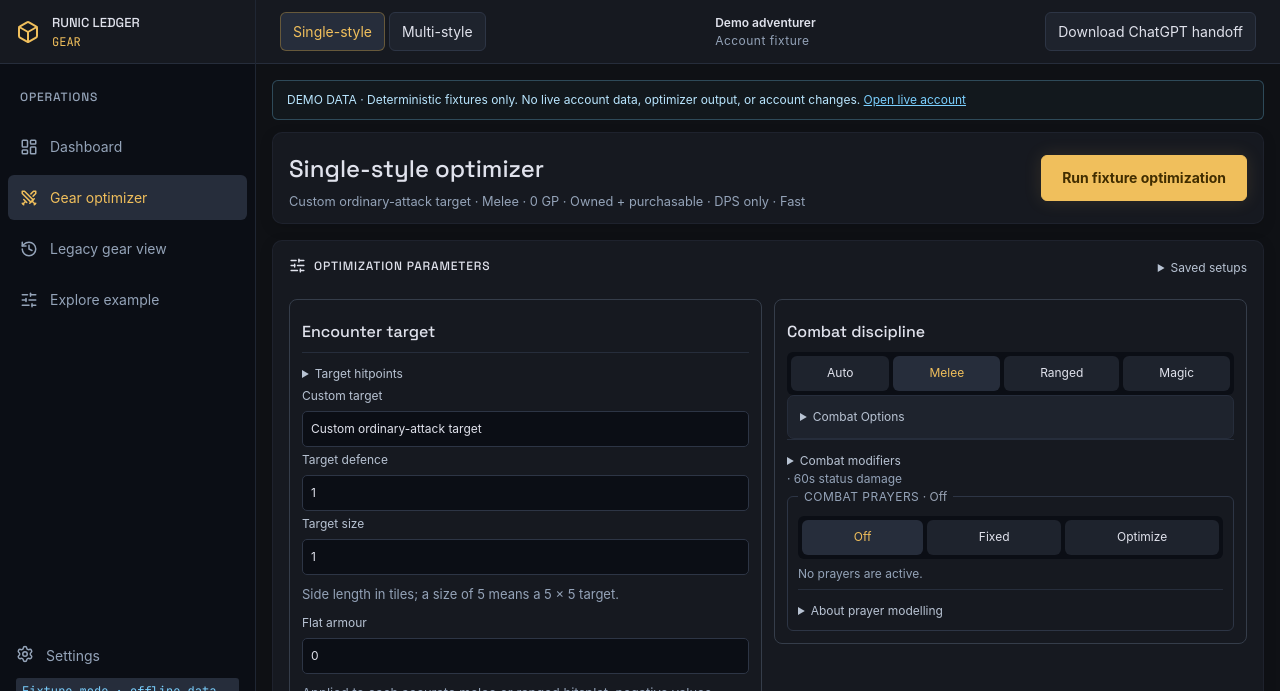
Scenario: discards delayed fixture evaluations after cancel and accepts the next preview
Click the button "Run fixture optimization" at {"x": 1144, "y": 178}, box [1041,155,1247,201]
(page scrolled)
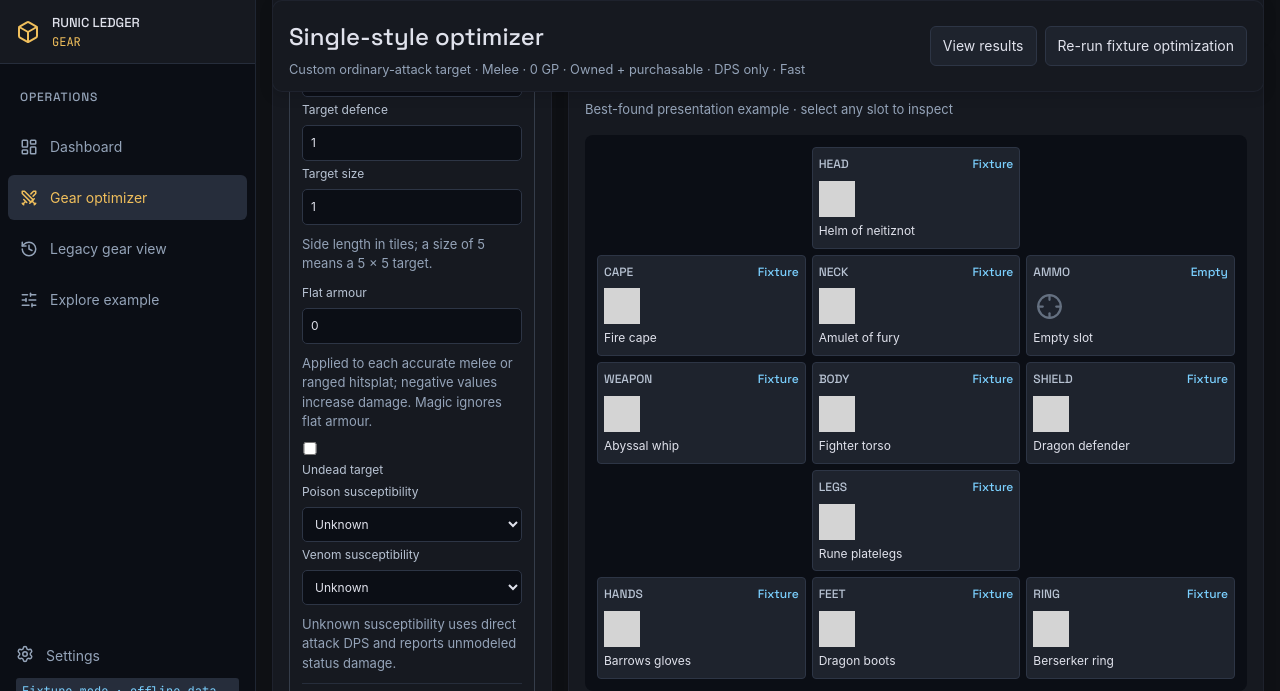
Click the button "weapon Fixture Abyssal whip" at {"x": 701, "y": 413}, box [597,362,806,464]
(page scrolled)
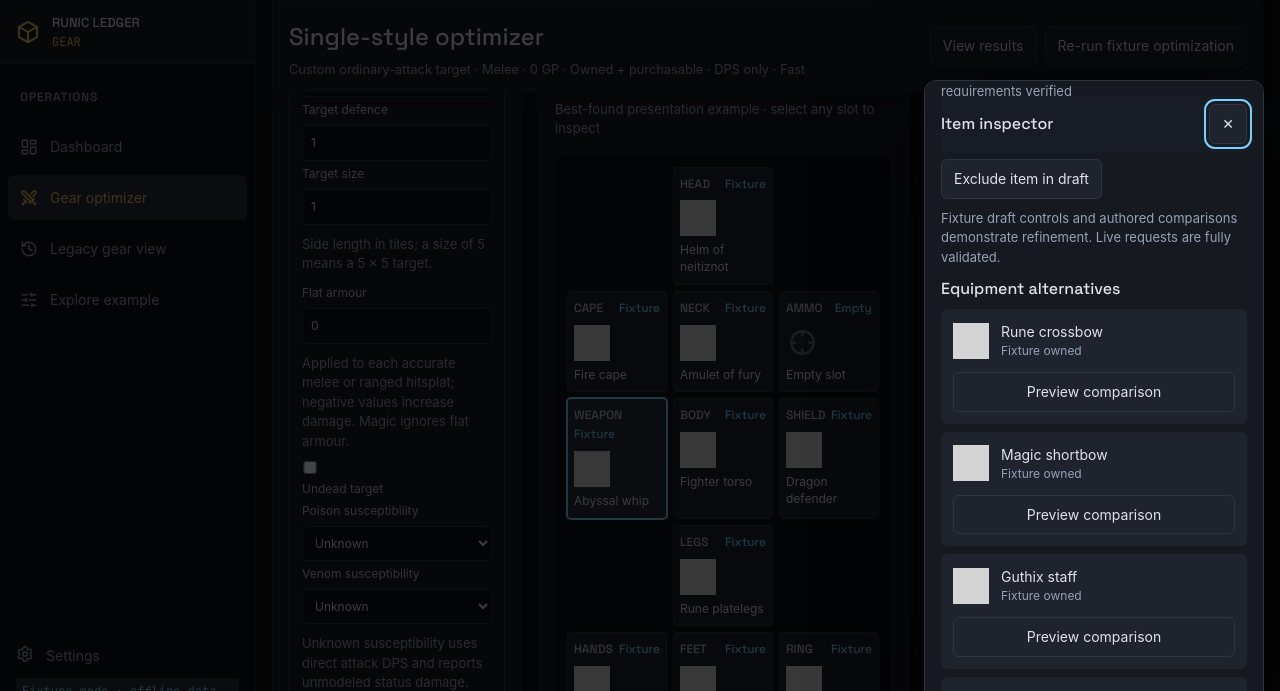
Click the button "Preview comparison" below "Rune crossbow" at {"x": 1094, "y": 392}, box [953,372,1235,412]
(page scrolled)
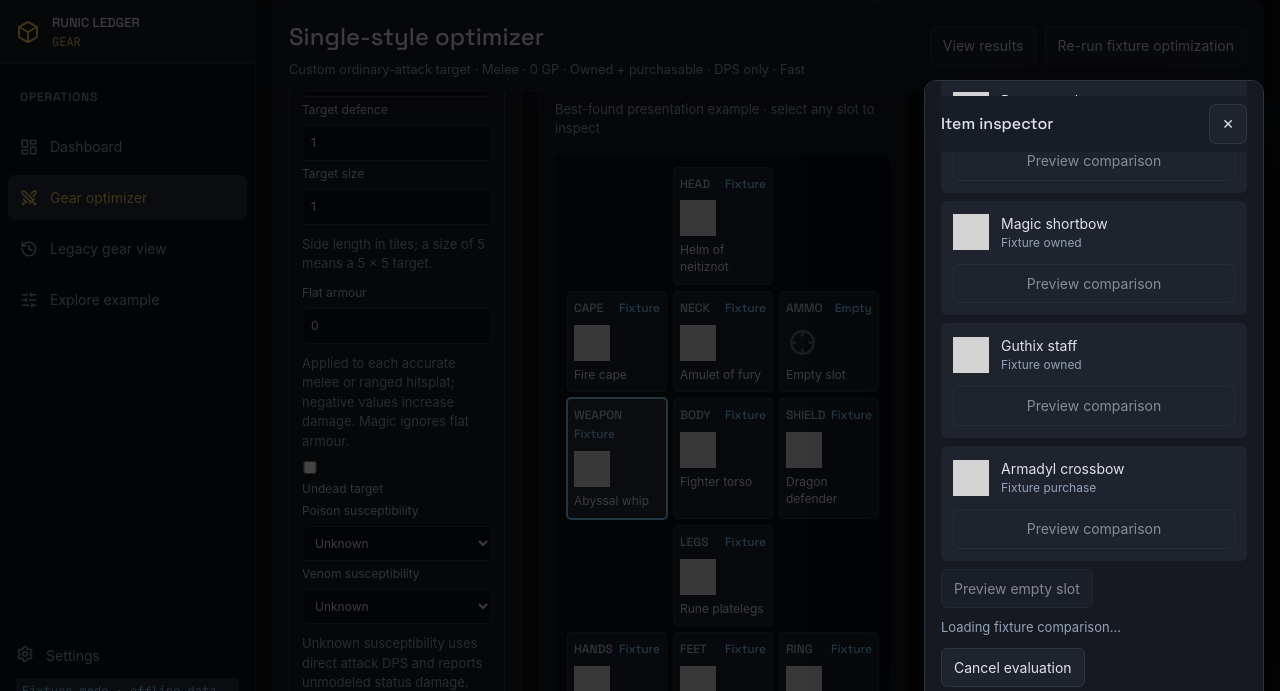
Now the text "Loading fixture comparison…" is shown, box [941,619,1121,635]
Click the button "Cancel evaluation" at {"x": 1013, "y": 668}, box [941,648,1085,687]
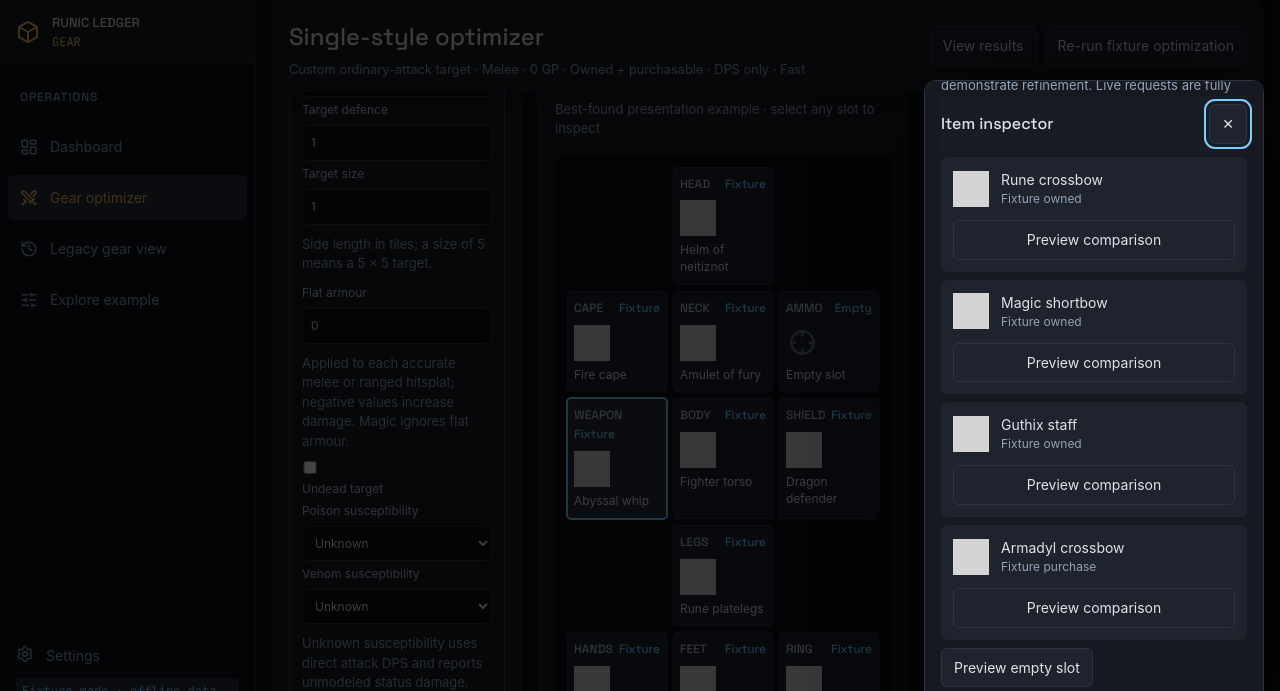
Expected: the text "Manual trial · fixture preview" is not shown
Click the button "Preview comparison" below "Rune crossbow" at {"x": 1094, "y": 240}, box [953,220,1235,260]
(page scrolled)
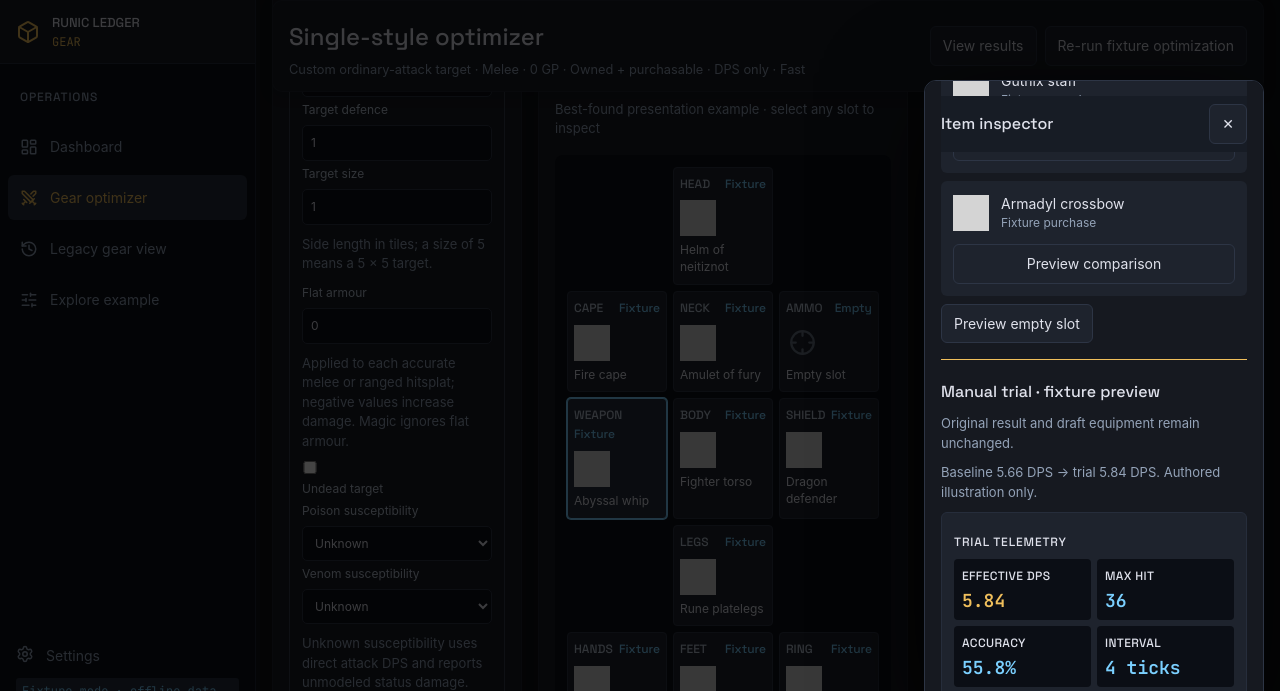
Now the heading "Manual trial · fixture preview" is shown, box [941,381,1160,402]
